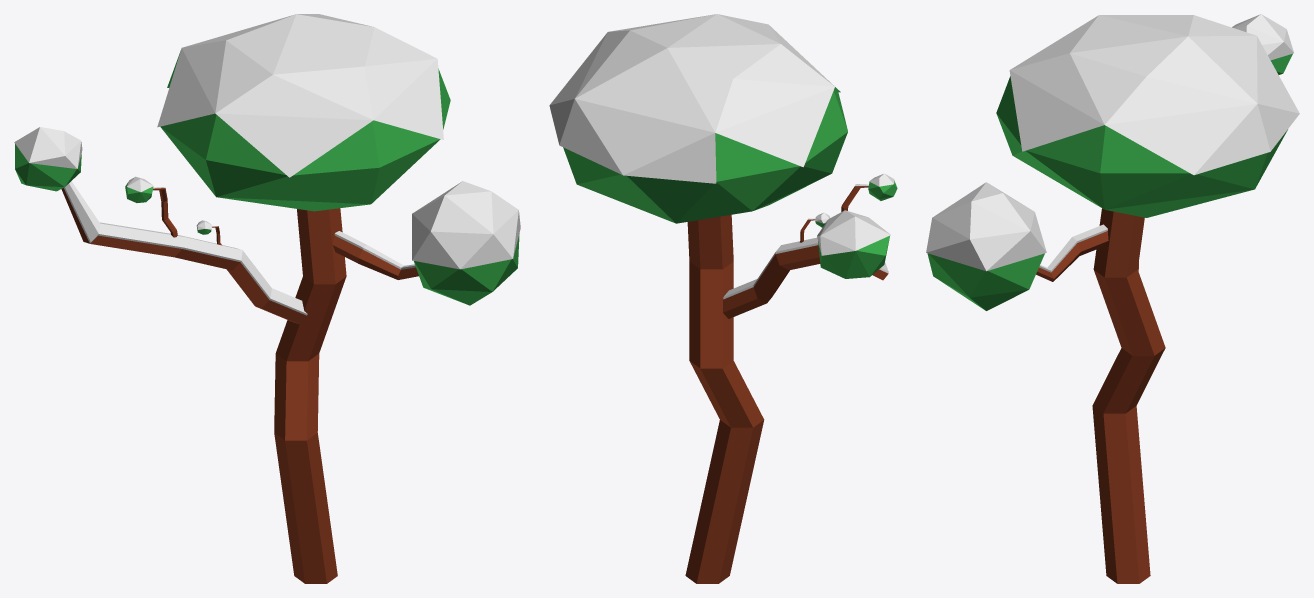
File: tree.018.fbx
3 views of the same model, side by side, from view 1: azimuth 30°, elevation 25°; view 2: azimuth 150°, elevation 25°; view 3: azimuth 270°, elevation 25° (orthographic).
Parts seen in each view (by area): view 1: Tree.018; view 2: Tree.018; view 3: Tree.018.
Boxes of the visible parts, x1,y1,x2,y2 form: Tree.018: [14, 14, 520, 583]; Tree.018: [549, 14, 897, 583]; Tree.018: [926, 14, 1299, 583].
Bounding box in the file's own units: 592 × 816 × 508.
